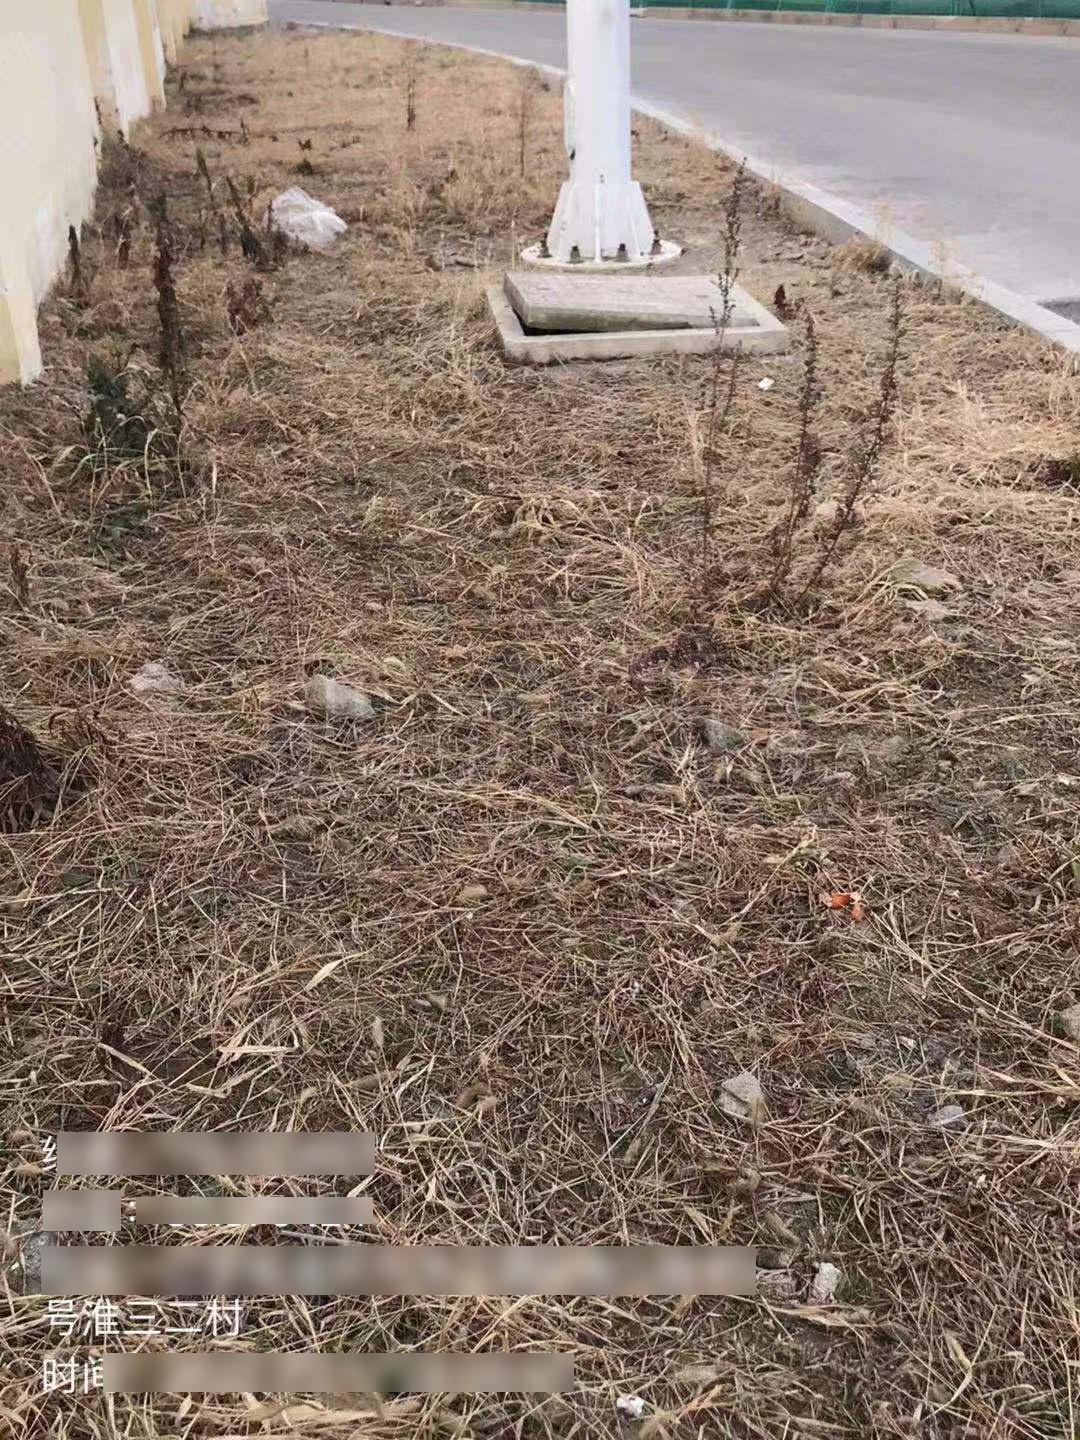uncovered: (484, 269, 786, 370)
